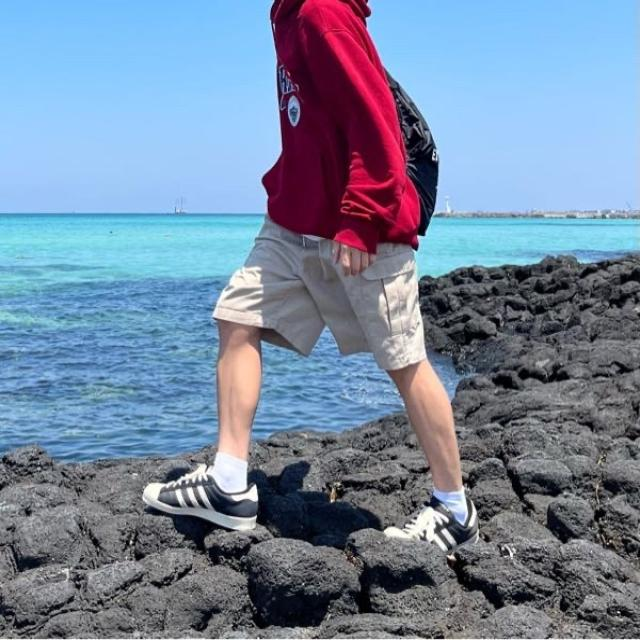hoodies: (256, 0, 425, 255)
shortpants: (212, 215, 428, 372)
